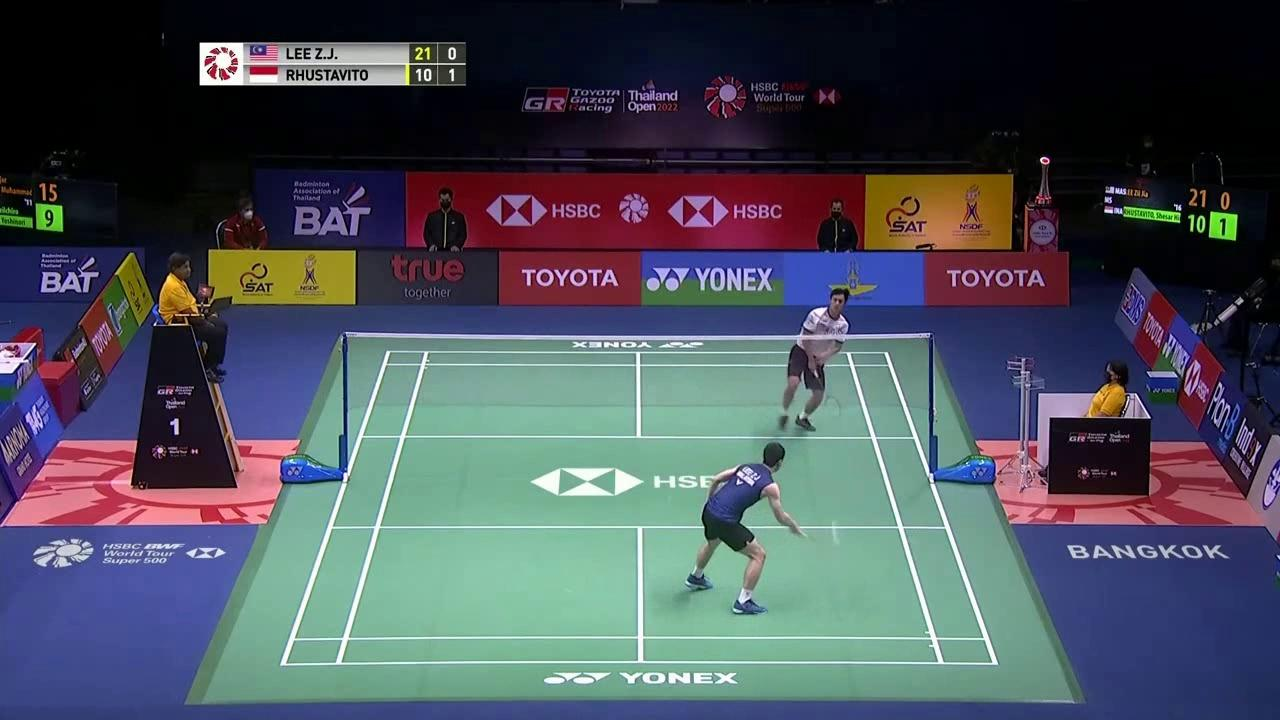racket: (810, 364, 841, 416), (791, 519, 851, 545)
